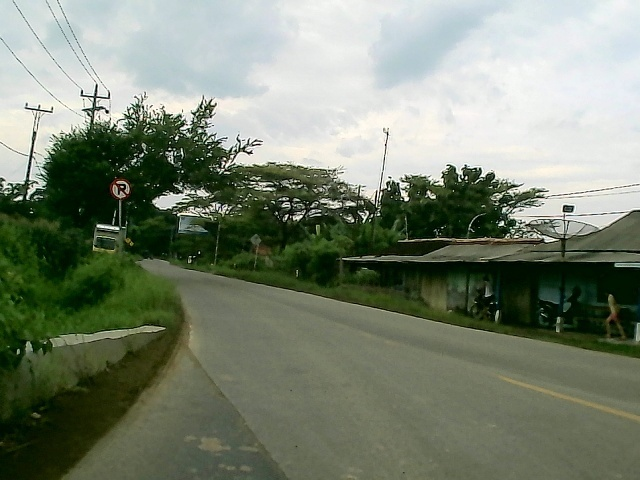Dilarang parkir: (109, 179, 134, 201)
